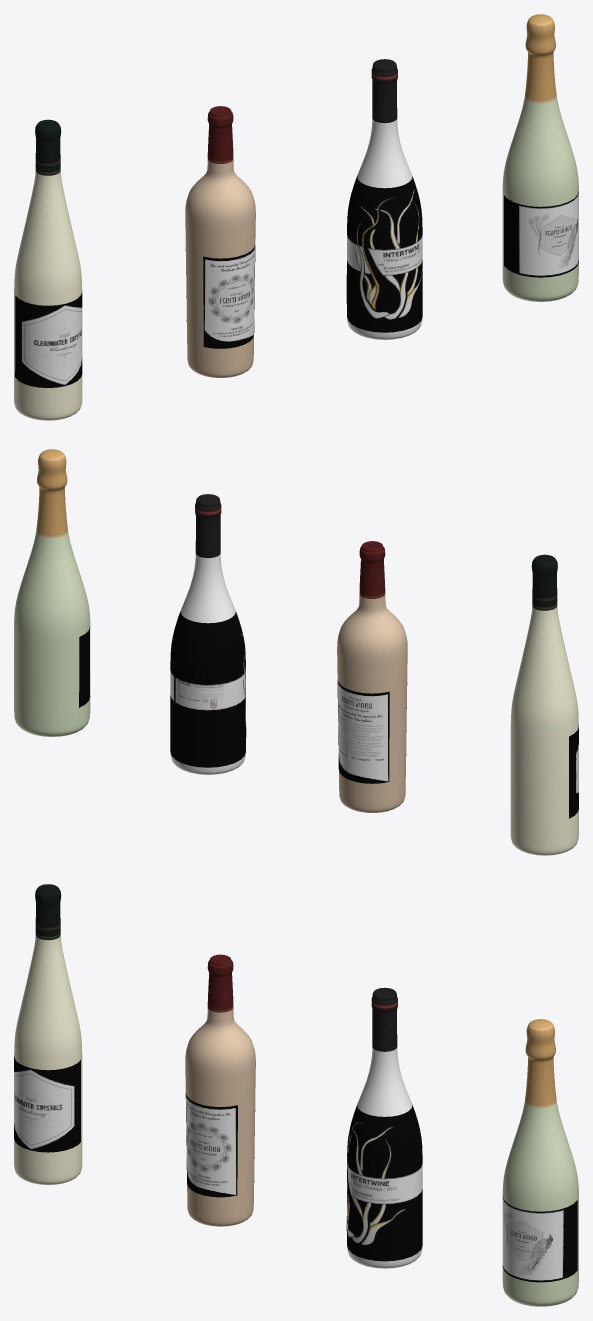
File: polyhaven-wine-bottles-01.glb
3 views of the same model, one above another, from view 1: azimuth 30°, elevation 25°; view 2: azimuth 150°, elevation 25°; view 3: azimuth 330°, elevation 25° (orthographic).
Visible parts, largest first — view 1: wine_bottles_01_champagne, wine_bottles_01_alsace, wine_bottles_01_burgundy, wine_bottles_01_bordeaux; view 2: wine_bottles_01_champagne, wine_bottles_01_alsace, wine_bottles_01_burgundy, wine_bottles_01_bordeaux; view 3: wine_bottles_01_champagne, wine_bottles_01_alsace, wine_bottles_01_burgundy, wine_bottles_01_bordeaux.
Part boxes in pixels (left/top/right/bottom): wine_bottles_01_champagne: left=502, top=14, right=578, bottom=301; wine_bottles_01_alsace: left=14, top=119, right=82, bottom=420; wine_bottles_01_burgundy: left=346, top=59, right=422, bottom=339; wine_bottles_01_bordeaux: left=185, top=106, right=255, bottom=377; wine_bottles_01_champagne: left=14, top=449, right=90, bottom=736; wine_bottles_01_alsace: left=510, top=554, right=578, bottom=855; wine_bottles_01_burgundy: left=170, top=494, right=246, bottom=774; wine_bottles_01_bordeaux: left=337, top=541, right=407, bottom=812; wine_bottles_01_champagne: left=502, top=1019, right=578, bottom=1306; wine_bottles_01_alsace: left=14, top=884, right=82, bottom=1184; wine_bottles_01_burgundy: left=346, top=987, right=422, bottom=1268; wine_bottles_01_bordeaux: left=185, top=954, right=255, bottom=1226.
Size of the model in its own units: 0.6763 by 0.3314 by 0.0806.
Materials: 9 (6 with a texture image).
